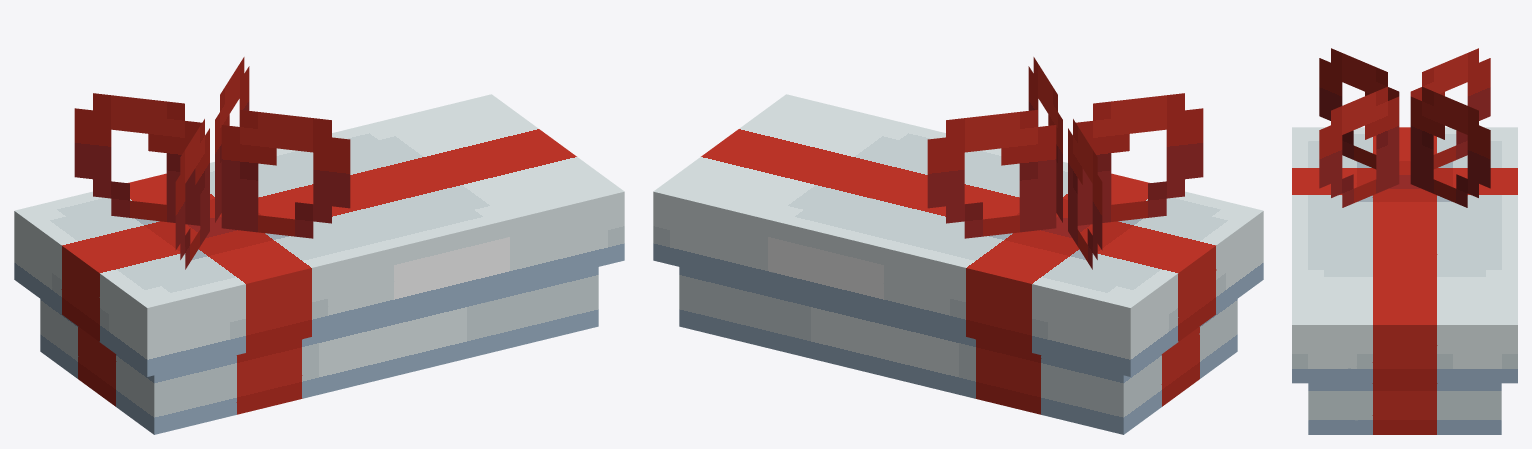
Rendered from present9.gltf.
3 renders of one model, left to right at view 1: azimuth 30°, elevation 25°; view 2: azimuth 150°, elevation 25°; view 3: azimuth 270°, elevation 25°, orthographic. The views are drawn at different scales.
Parts seen in each view (by area): view 1: cube (×4); view 2: cube (×4); view 3: cube (×4).
Part boxes in pixels (<box>): cube (×4): <box>14,57,624,434</box>; cube (×4): <box>653,57,1263,434</box>; cube (×4): <box>1292,48,1517,434</box>.
Bounding box in the file's own units: 1.81 × 1.06 × 0.875.
Materials: 1 (1 with a texture image).
